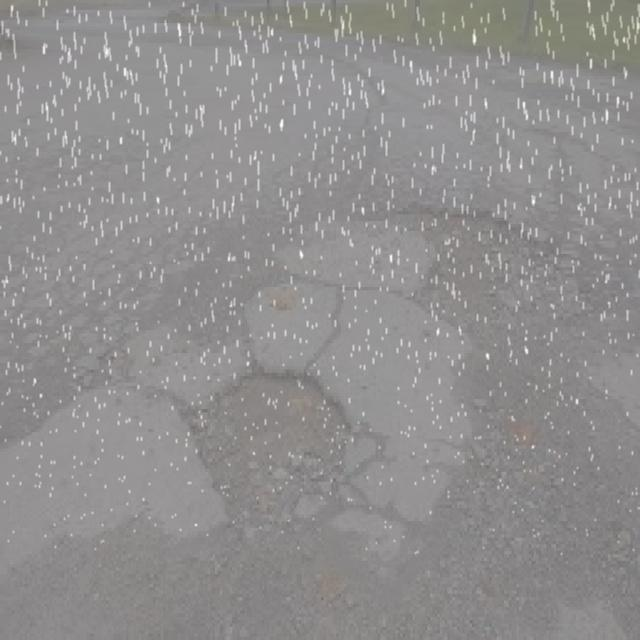Pothole: (156, 346, 377, 588), (409, 188, 578, 333), (466, 358, 561, 457)
